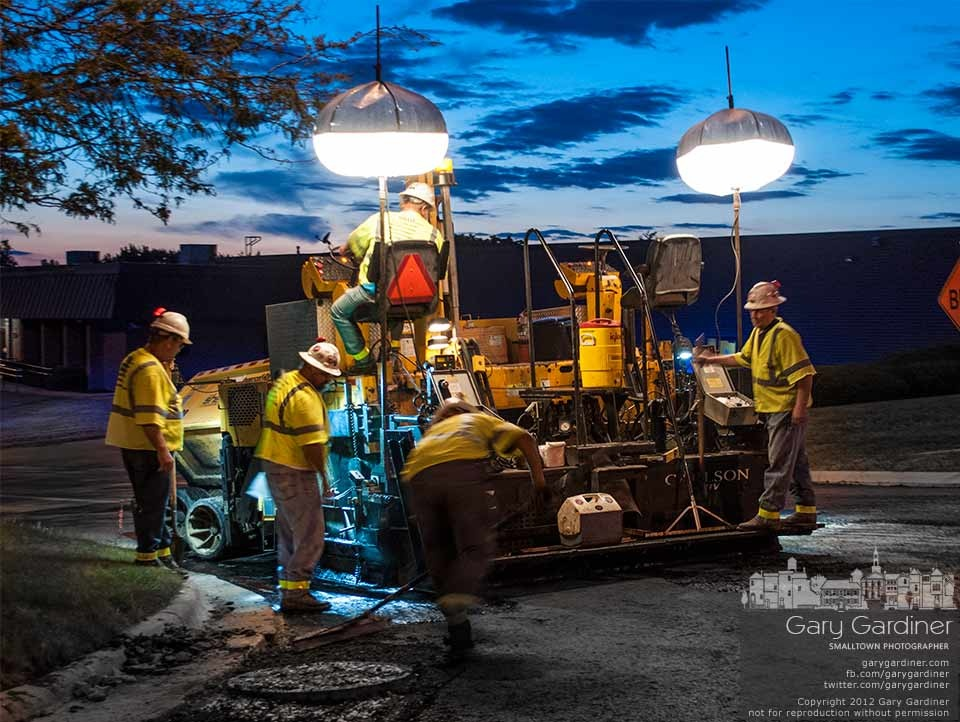white: (142, 308, 189, 362), (296, 340, 339, 392), (742, 280, 785, 331), (395, 179, 435, 218)
